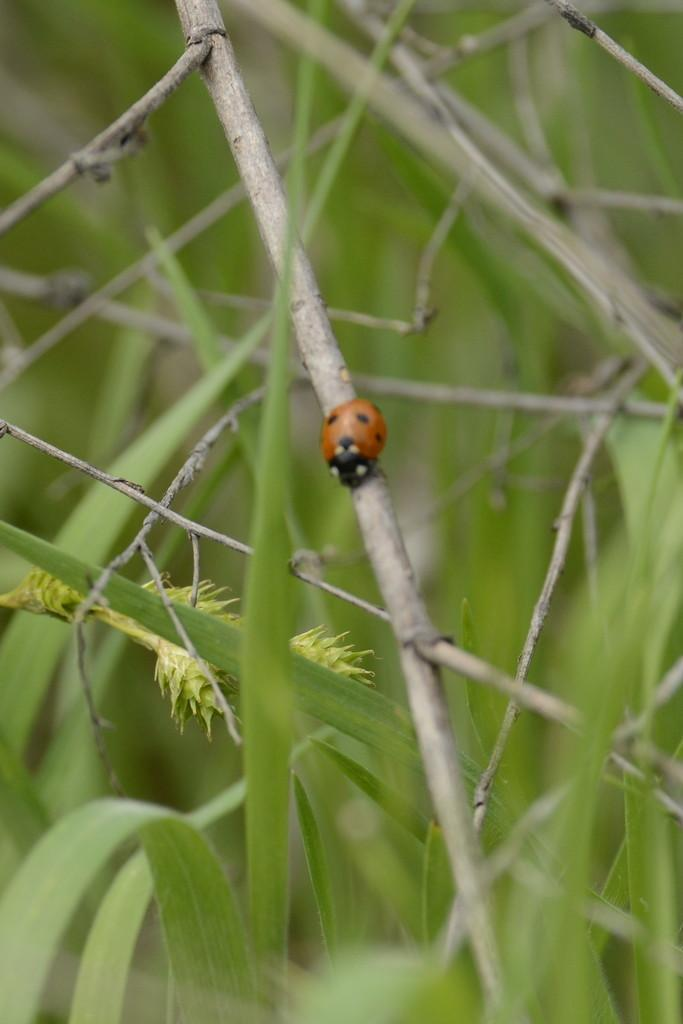ladybug: (319, 399, 394, 494)
